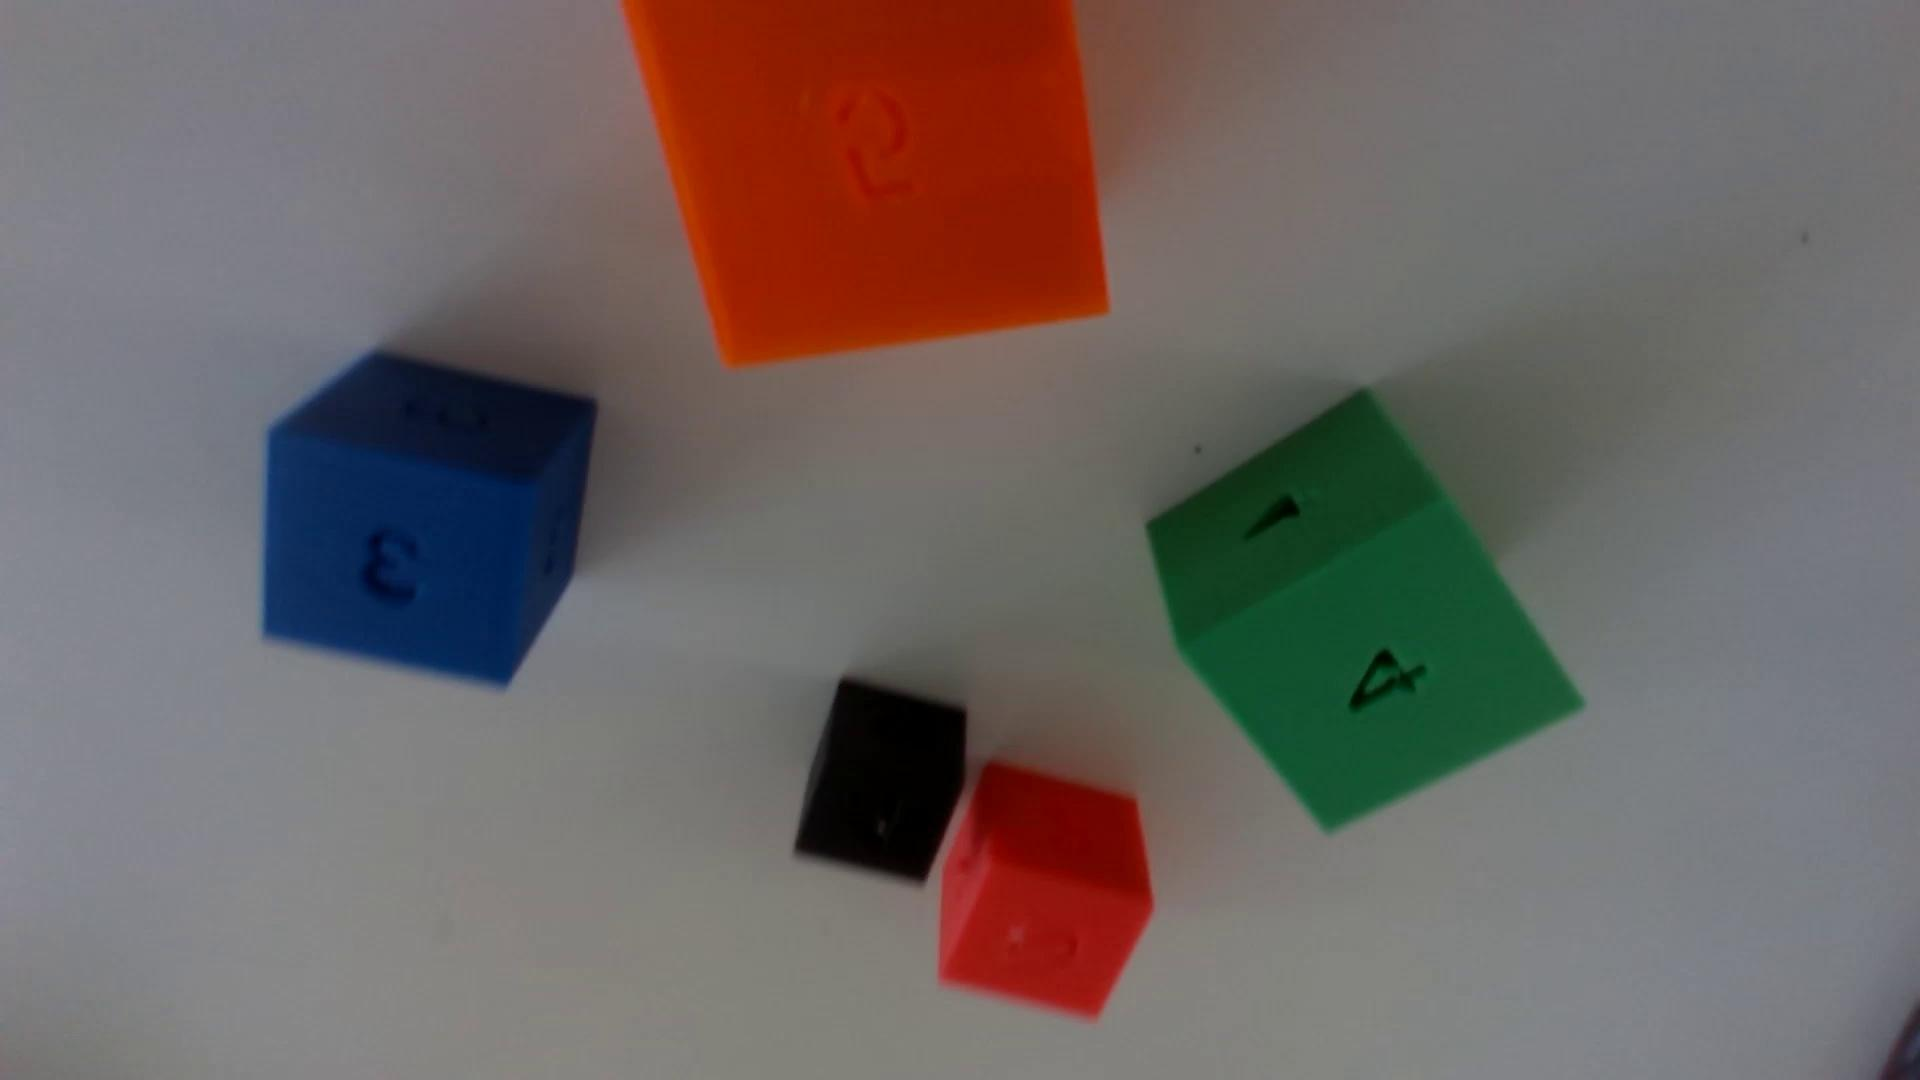black: (793, 678, 967, 884)
blue: (262, 352, 597, 686)
green: (1146, 392, 1581, 829)
orange: (622, 0, 1108, 365)
red: (938, 761, 1153, 1017)
